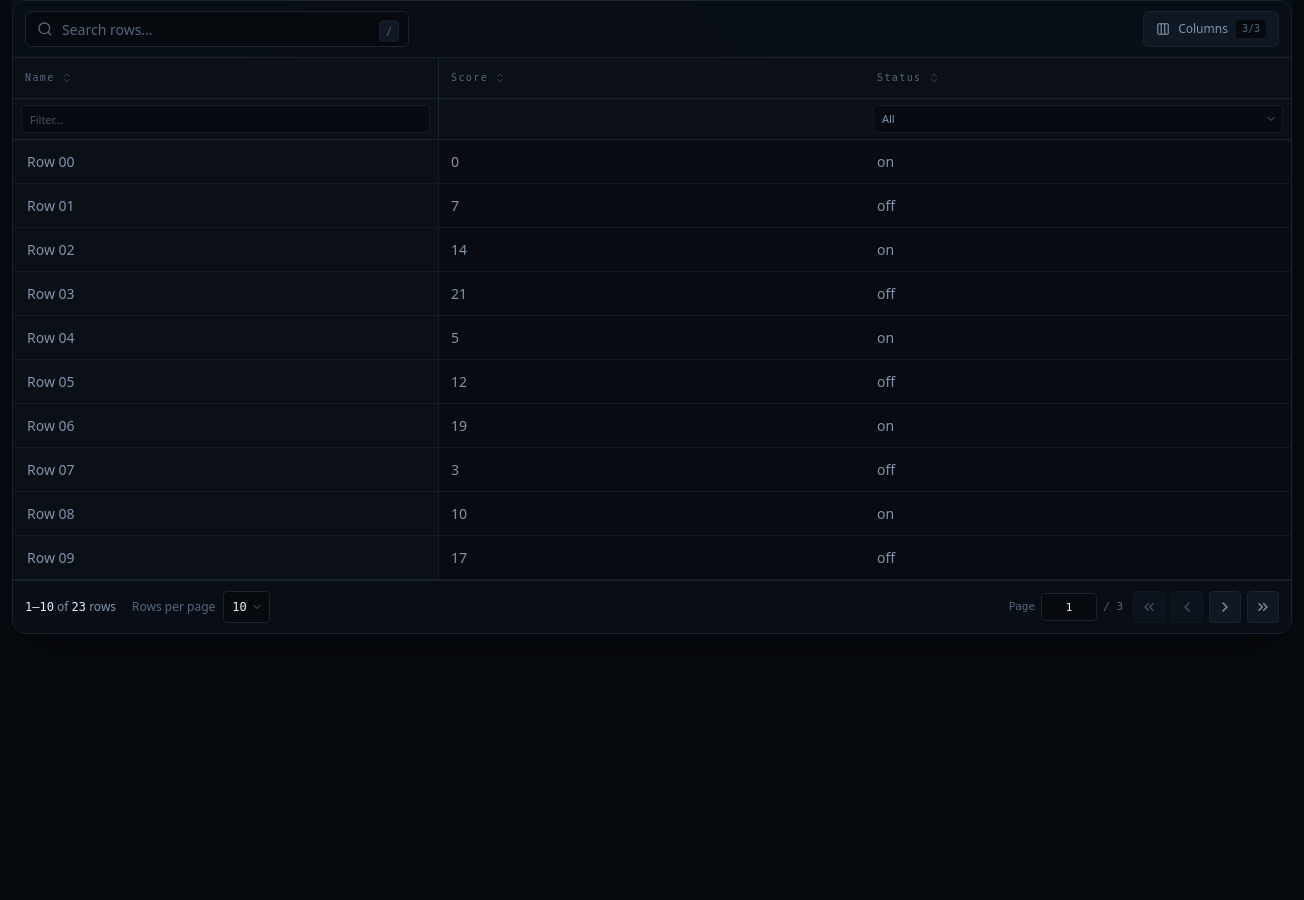
Scenario: DataGrid › marks the current option in the select menu
This screenshot has width=1304, height=900.
Click the button with aria-label "Filter by Status" at point(888, 119), box [873,105,1283,133]
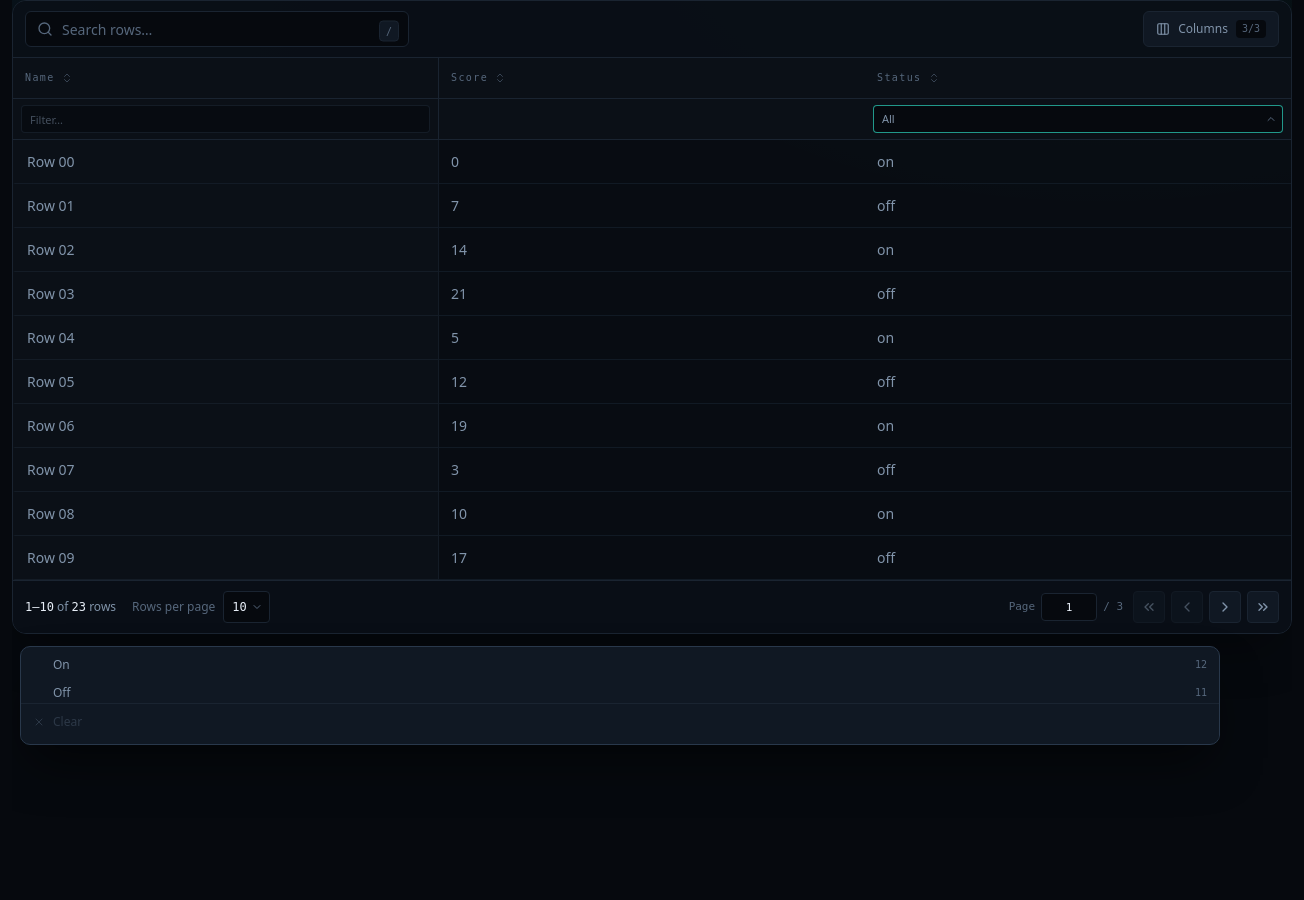
Click the menu item "Off 11" at point(62, 692), box [25,679,1215,707]
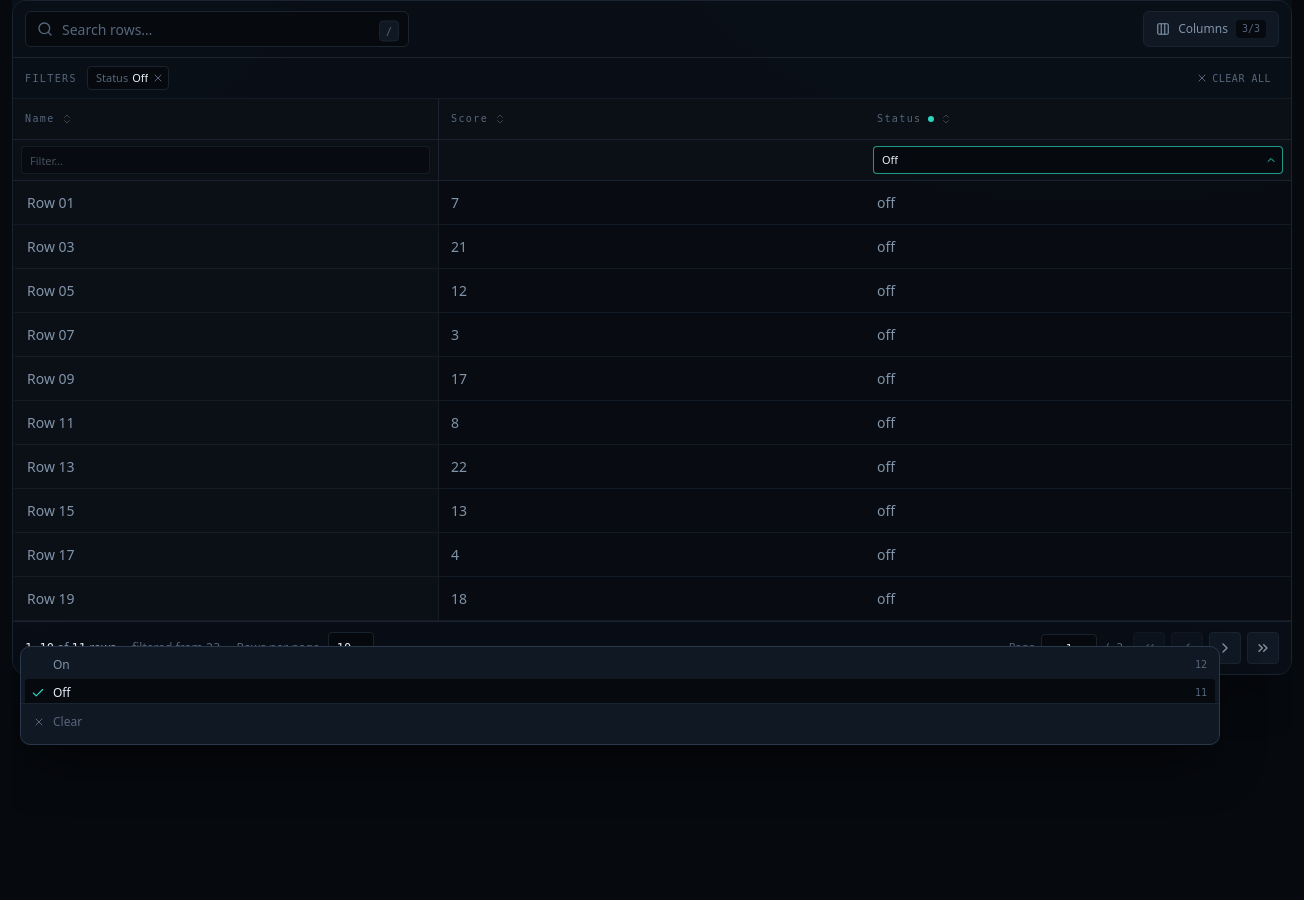
Press Escape
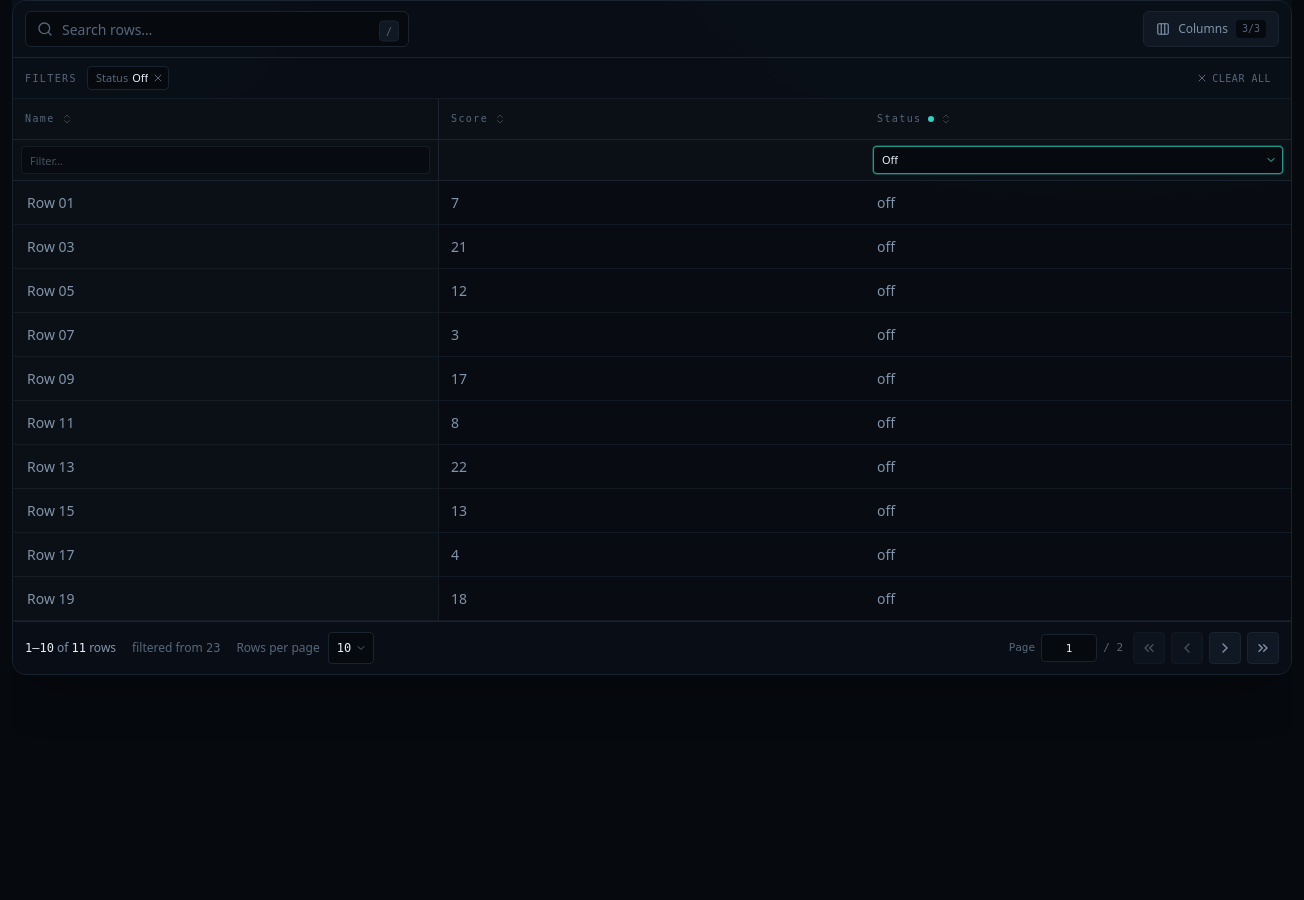
Click the button with aria-label "Filter by Status" at point(890, 160), box [873,146,1283,174]
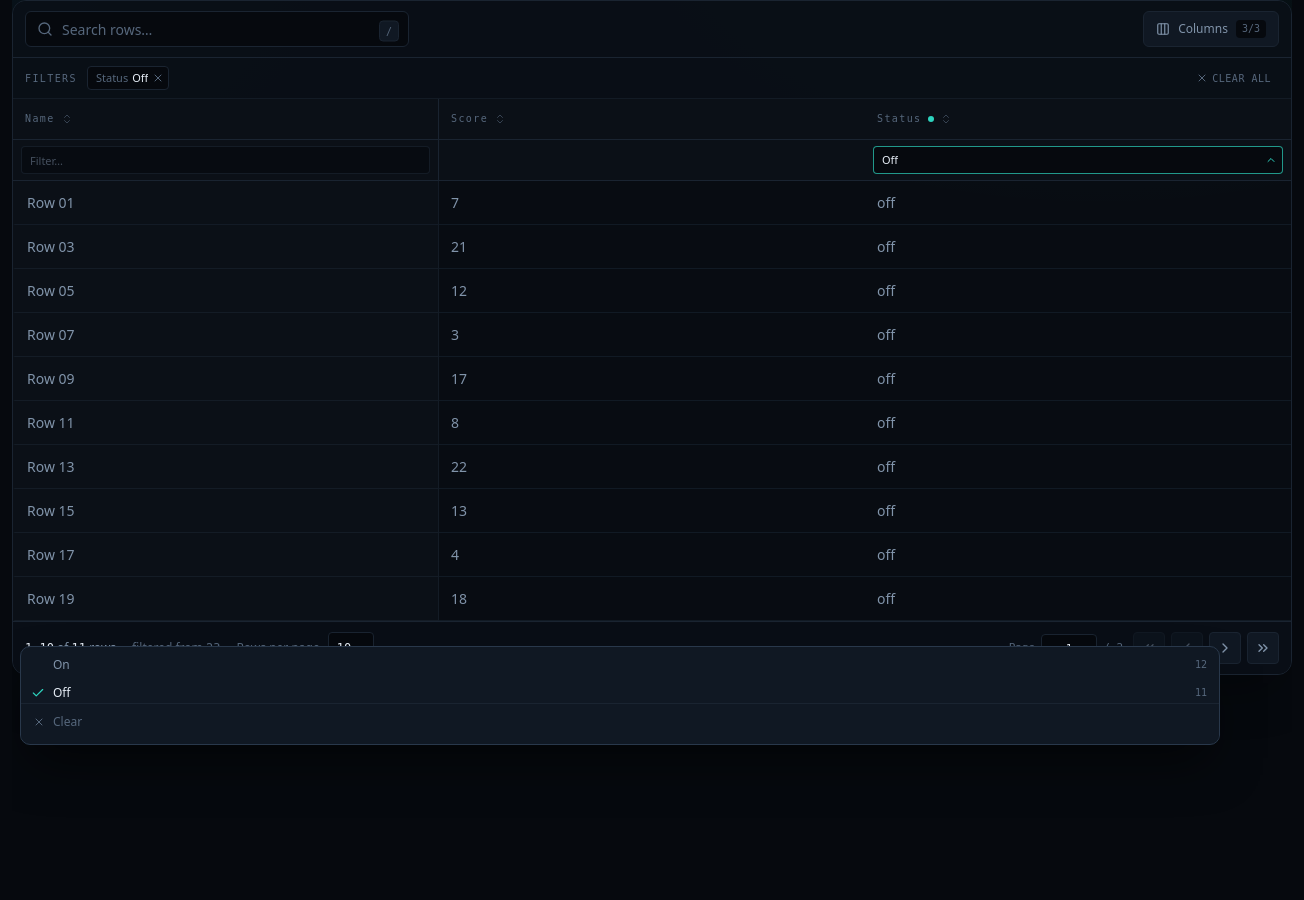
Press Escape
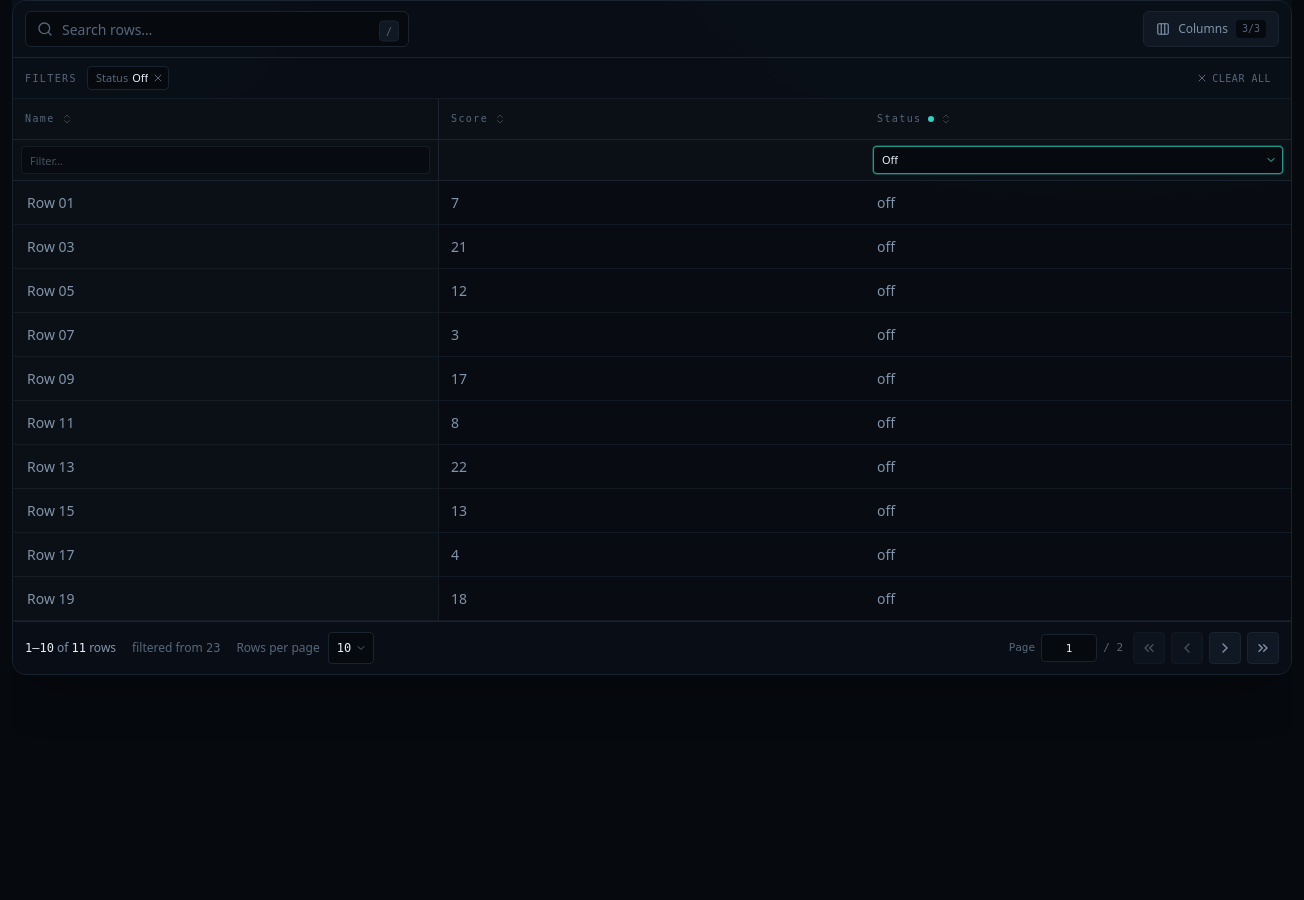
Now the menu is gone
